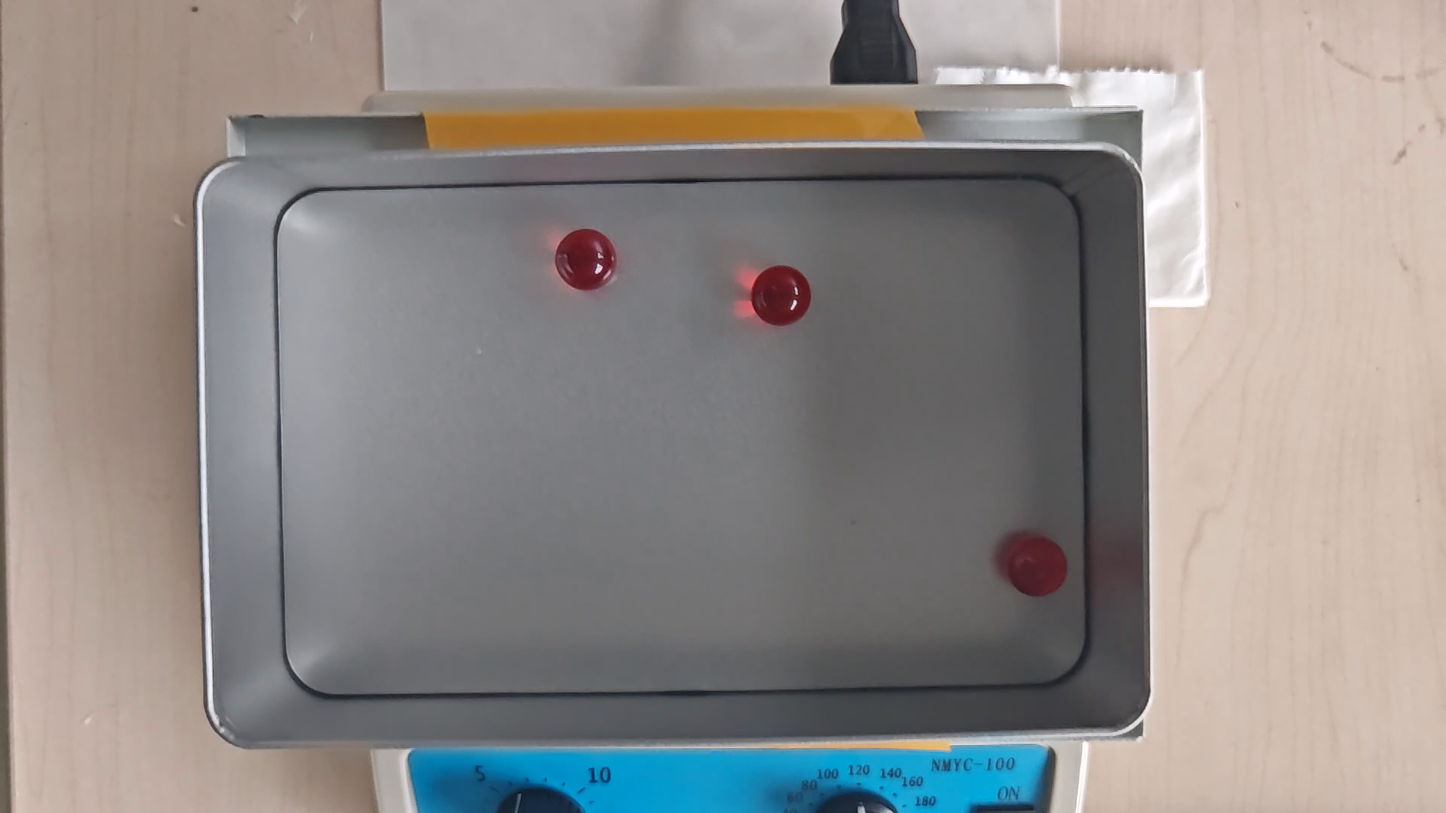ball: (753, 264, 813, 325), (557, 230, 616, 291), (1007, 537, 1066, 596)
container: (279, 179, 1085, 693)
